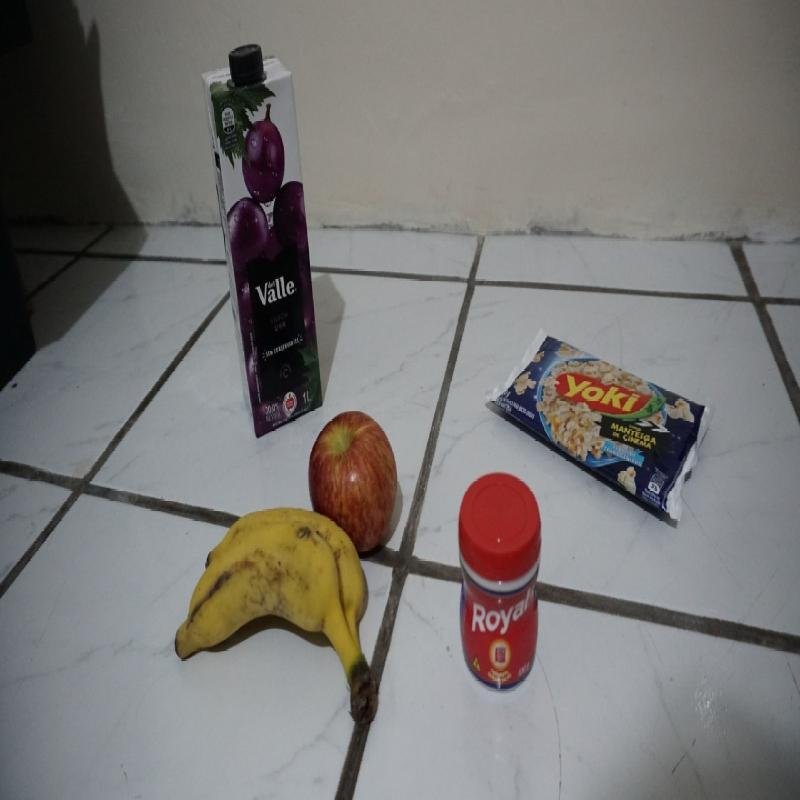Popcorn: (489, 332, 713, 521)
Yeast: (459, 470, 542, 691)
